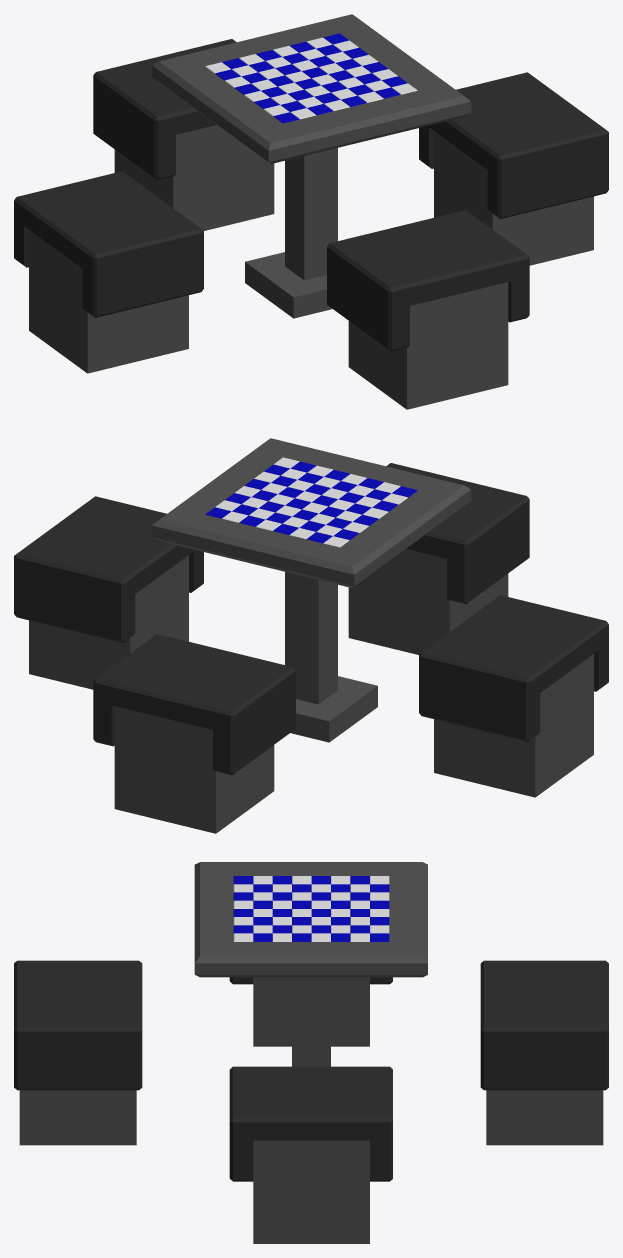
File: MesaAjedrez 1.fbx
The picture shows the model from 3 angles, top to bottom: view 1: azimuth 30°, elevation 25°; view 2: azimuth 150°, elevation 25°; view 3: azimuth 270°, elevation 25°; orthographic projection.
Parts seen in each view (by area): view 1: Mesa, Silla004, Silla002, Silla003, Silla001; view 2: Mesa, Silla001, Silla002, Silla003, Silla004; view 3: Mesa, Silla003, Silla001, Silla004, Silla002.
Part boxes in pixels (left/top/right/bottom): Mesa: left=151, top=14, right=471, bottom=318; Silla004: left=327, top=210, right=529, bottom=409; Silla002: left=14, top=171, right=203, bottom=373; Silla003: left=419, top=72, right=608, bottom=265; Silla001: left=93, top=39, right=274, bottom=230; Mesa: left=151, top=438, right=471, bottom=742; Silla001: left=93, top=634, right=295, bottom=833; Silla002: left=419, top=595, right=608, bottom=797; Silla003: left=14, top=496, right=203, bottom=689; Silla004: left=348, top=463, right=529, bottom=654; Mesa: left=194, top=862, right=427, bottom=1066; Silla003: left=229, top=1066, right=392, bottom=1243; Silla001: left=480, top=960, right=608, bottom=1145; Silla004: left=14, top=960, right=142, bottom=1145; Silla002: left=229, top=977, right=392, bottom=1046.
Bounding box in the file's own units: 2.55 × 2.55 × 1.
